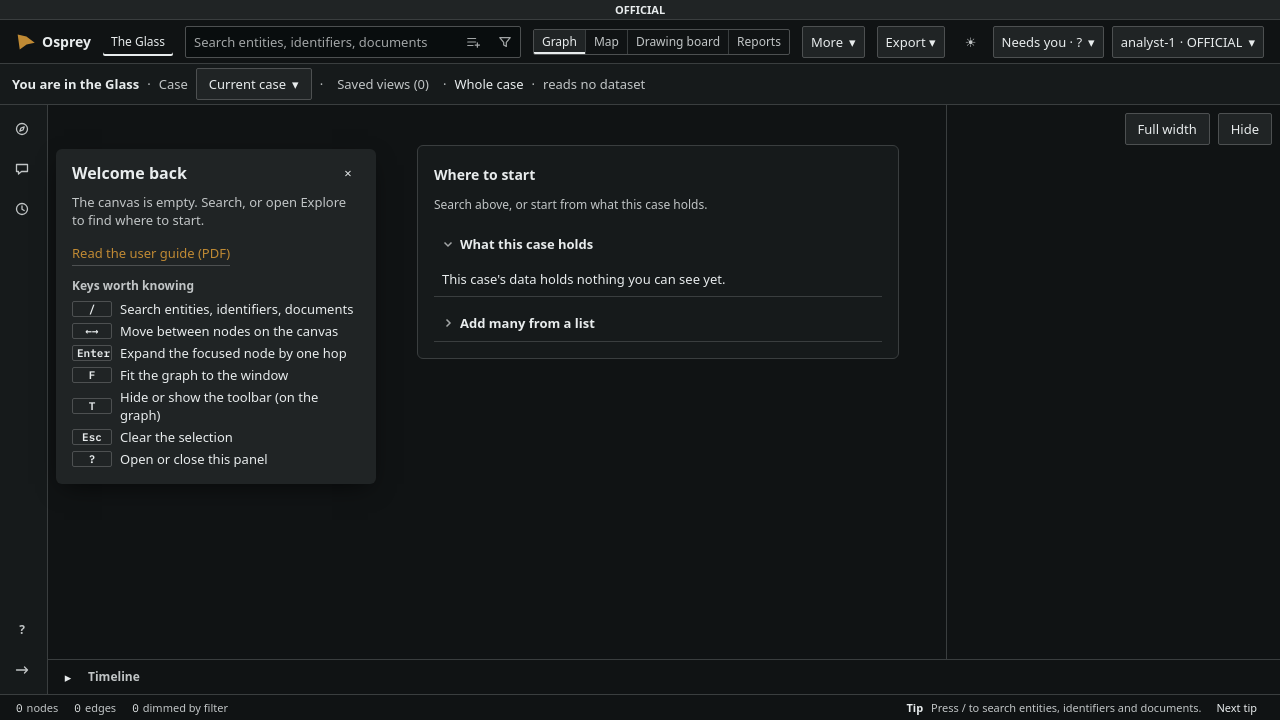
Test: the rail's Help over every view the rail reaches › in the map, Help opens the panel and a second press closes it
The image size is (1280, 720).
Check: the navigation bar named "Workspace" is shown, box [0,105,48,694]
Click the button named "Close the welcome panel" at (348, 173), box [336,161,360,185]
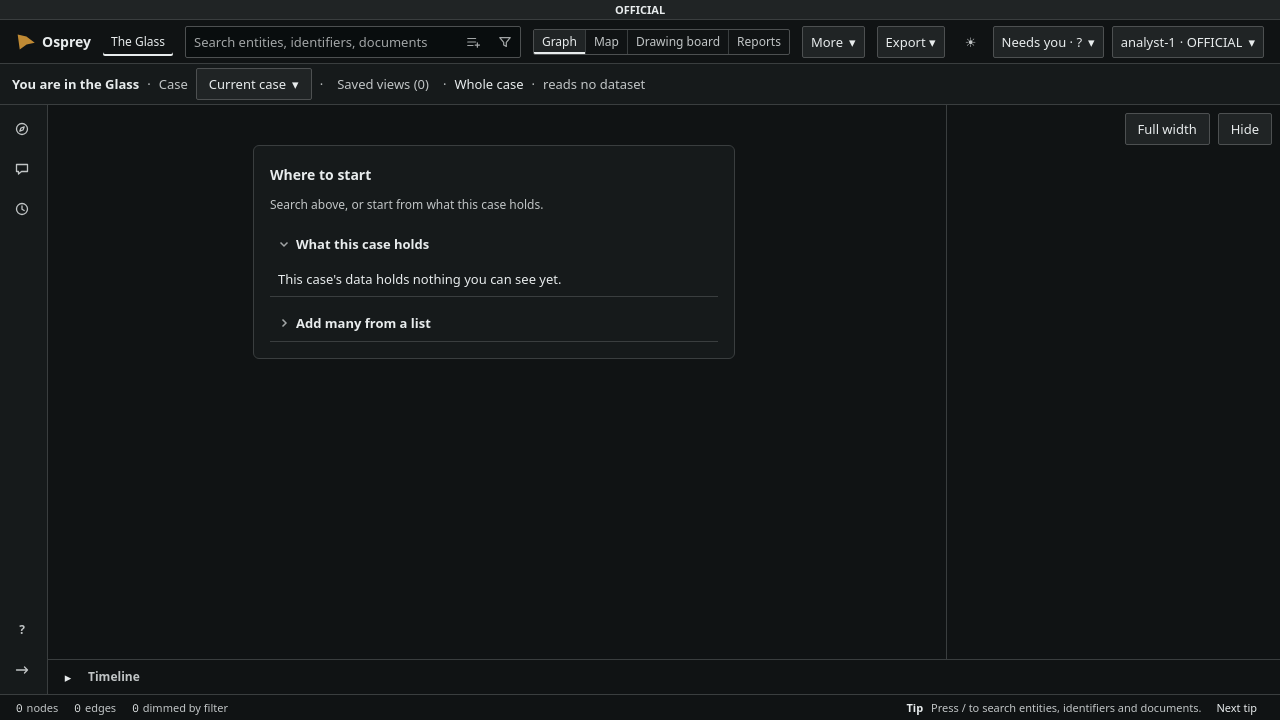
Check: the heading "Welcome back" is gone
Click the button "Map" at (606, 42), box [585,30,627,54]
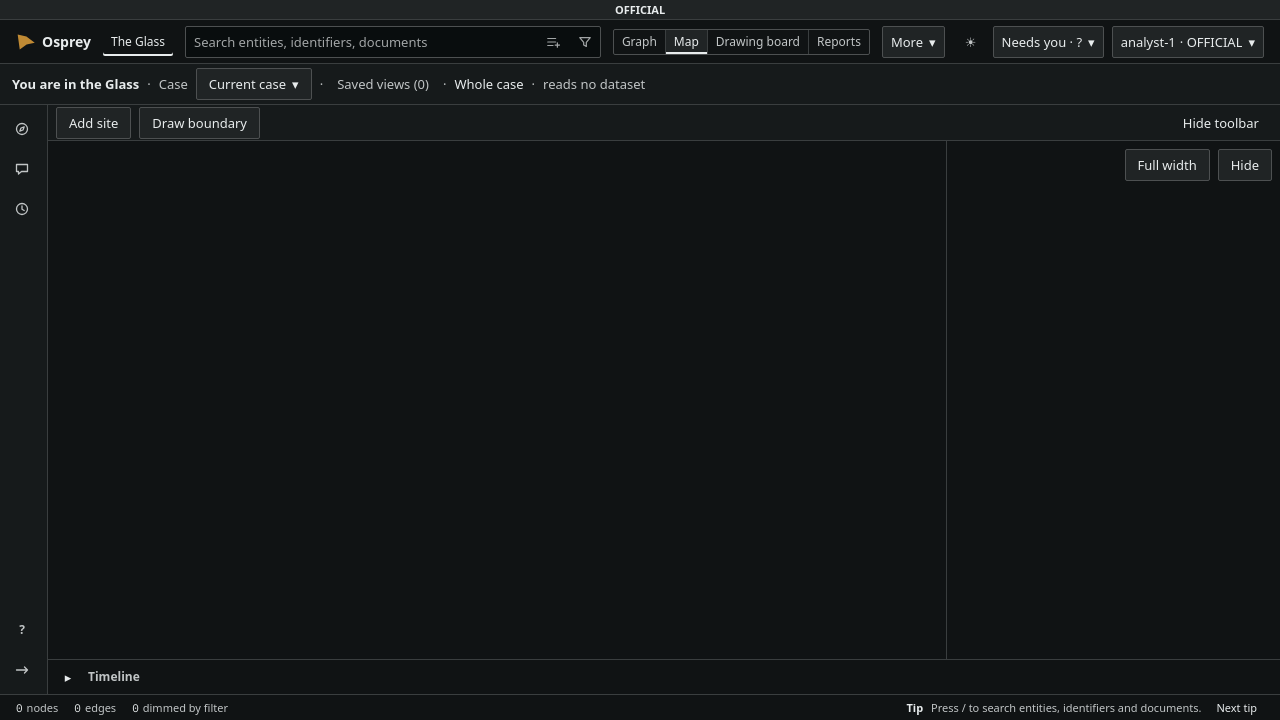
Click the button named "Help" at (24, 630), box [6,612,42,648]
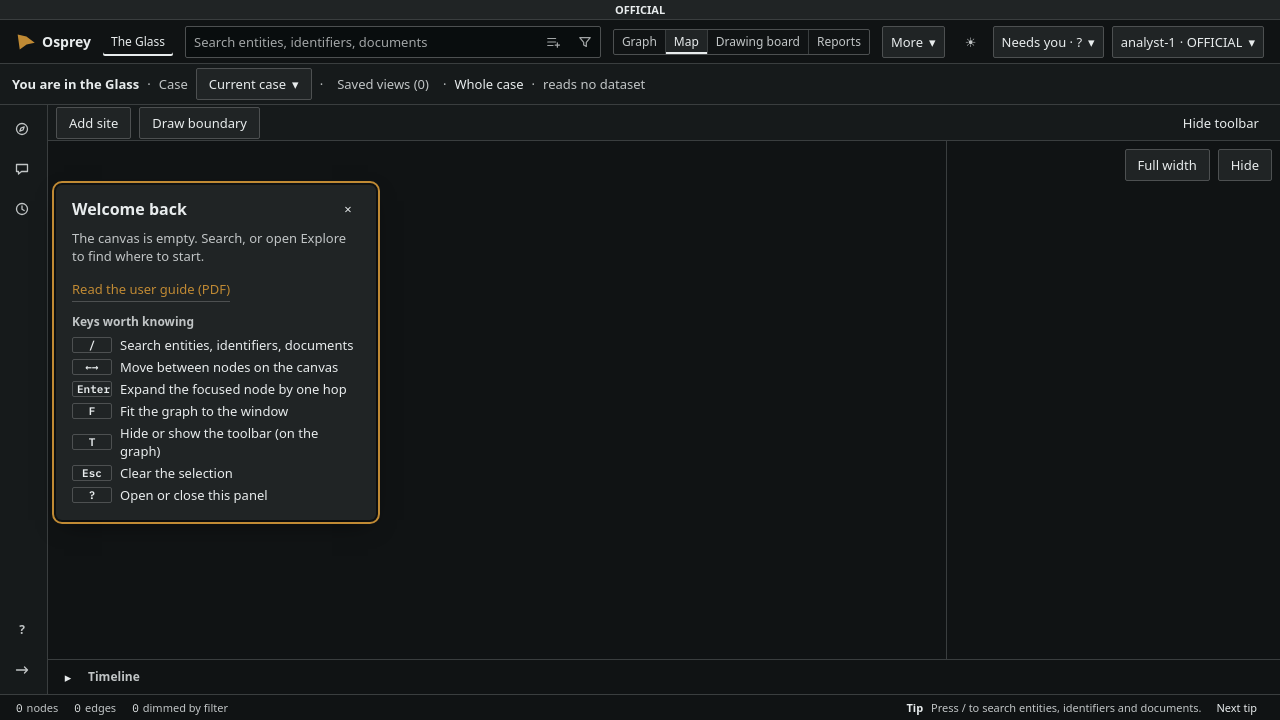
Check: the dialog "Welcome back" is shown, box [56,185,376,520]
Click the button named "Help" at (24, 630), box [6,612,42,648]
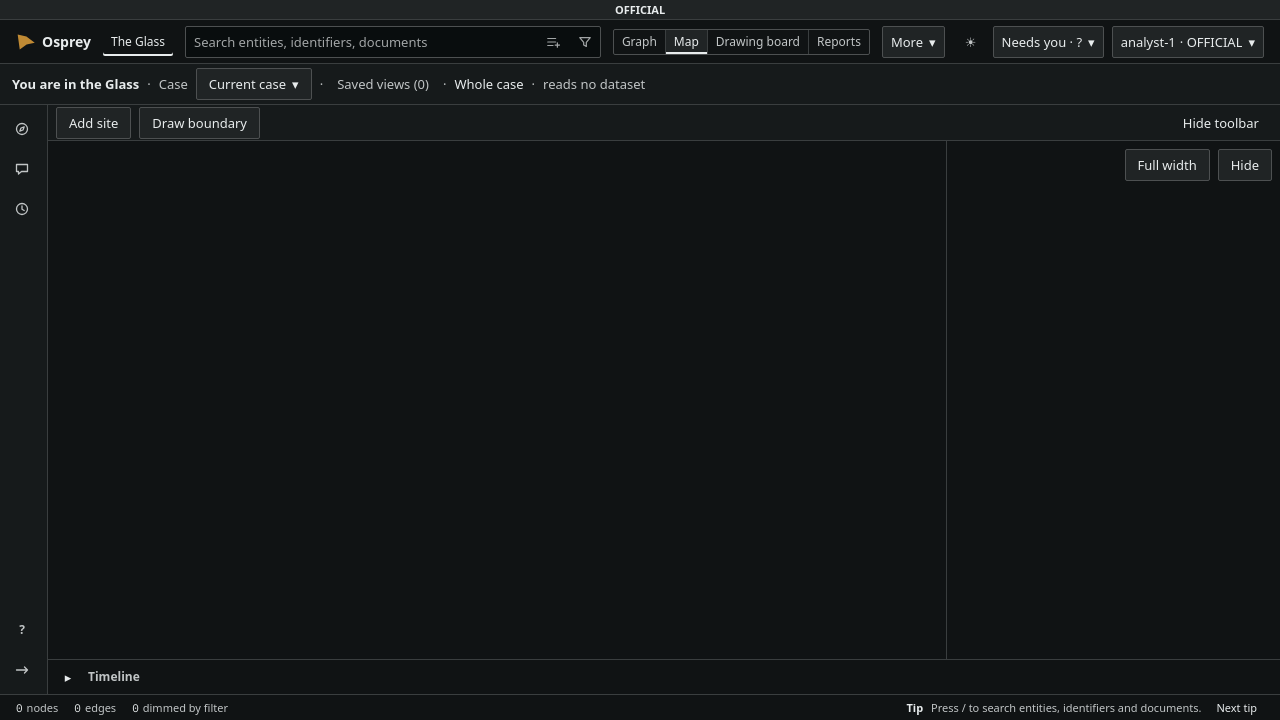
Check: the heading "Welcome back" is gone
